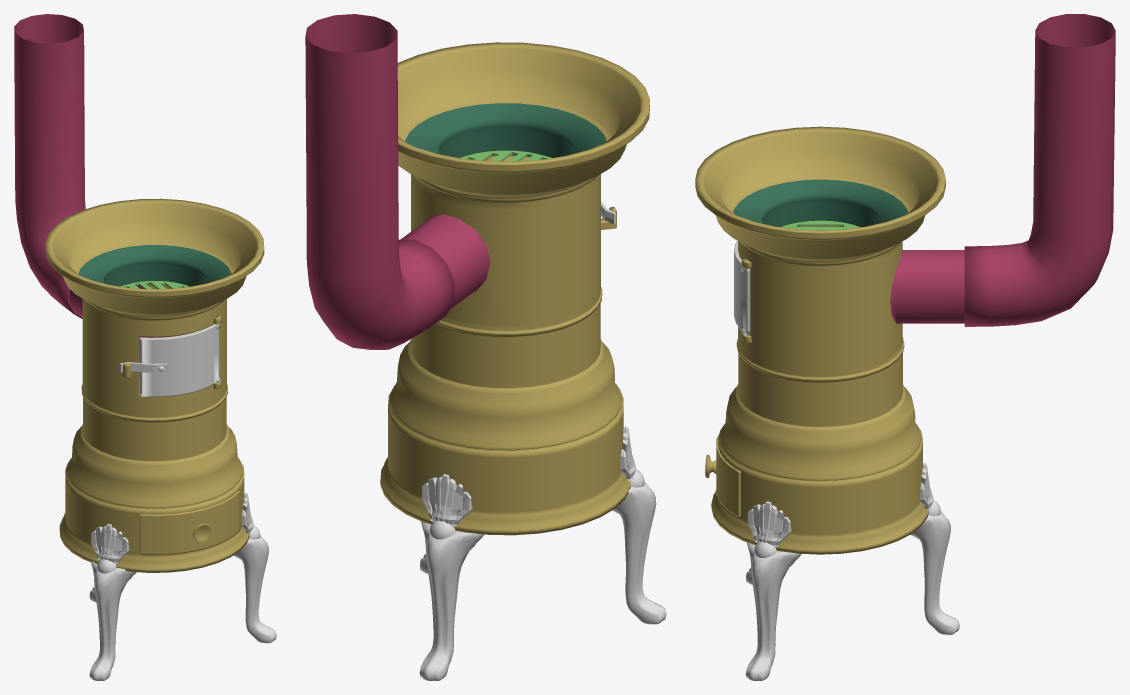
The picture shows the model from 3 angles, left to right: view 1: azimuth 30°, elevation 25°; view 2: azimuth 150°, elevation 25°; view 3: azimuth 270°, elevation 25°; orthographic projection. The views are drawn at different scales.
Parts seen in each view (by area): view 1: Stove, Leg (×2), Door, Handle; view 2: Stove, Leg (×2); view 3: Stove, Leg (×2), Door.
Part boxes in pixels (left/top/right/bottom): Stove: left=14, top=14, right=264, bottom=572; Leg (×2): left=89, top=493, right=276, bottom=680; Door: left=139, top=323, right=220, bottom=397; Handle: left=119, top=362, right=167, bottom=372; Stove: left=305, top=14, right=649, bottom=535; Leg (×2): left=419, top=426, right=666, bottom=680; Stove: left=695, top=14, right=1115, bottom=554; Leg (×2): left=745, top=463, right=959, bottom=680; Door: left=734, top=240, right=750, bottom=335.
Bounding box in the file's own units: 0.4849 × 1.29 × 0.8132.
